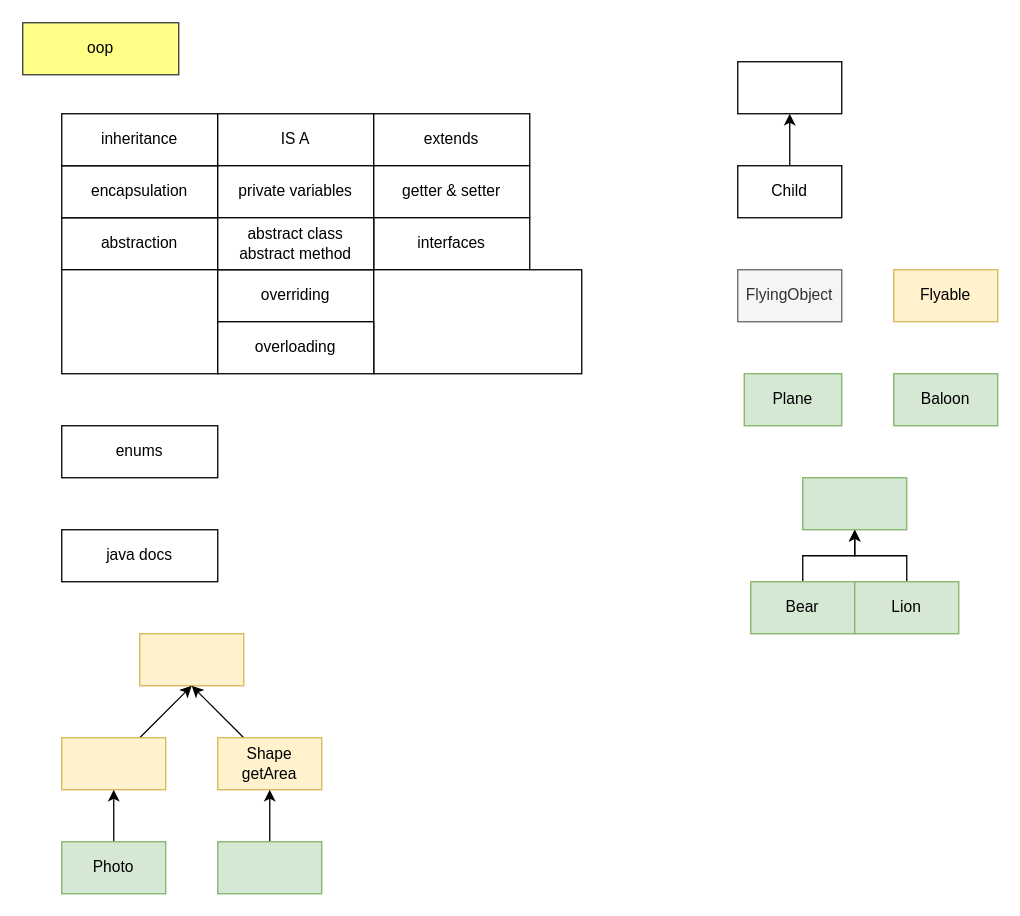
Some shapes in this 1020 by 916 pixel diagram are drawn without their labels. The shapes that lost their labels are listed below. From the top down, each one's centre as x and y in pixels, then its label:
(789,87): Parent
(139,321): polymorphism
(477,321): Beast bear = new Bear ()
(854,503): Beast
(191,659): Drawable draw
(113,763): Picture
(269,867): Rectangle
